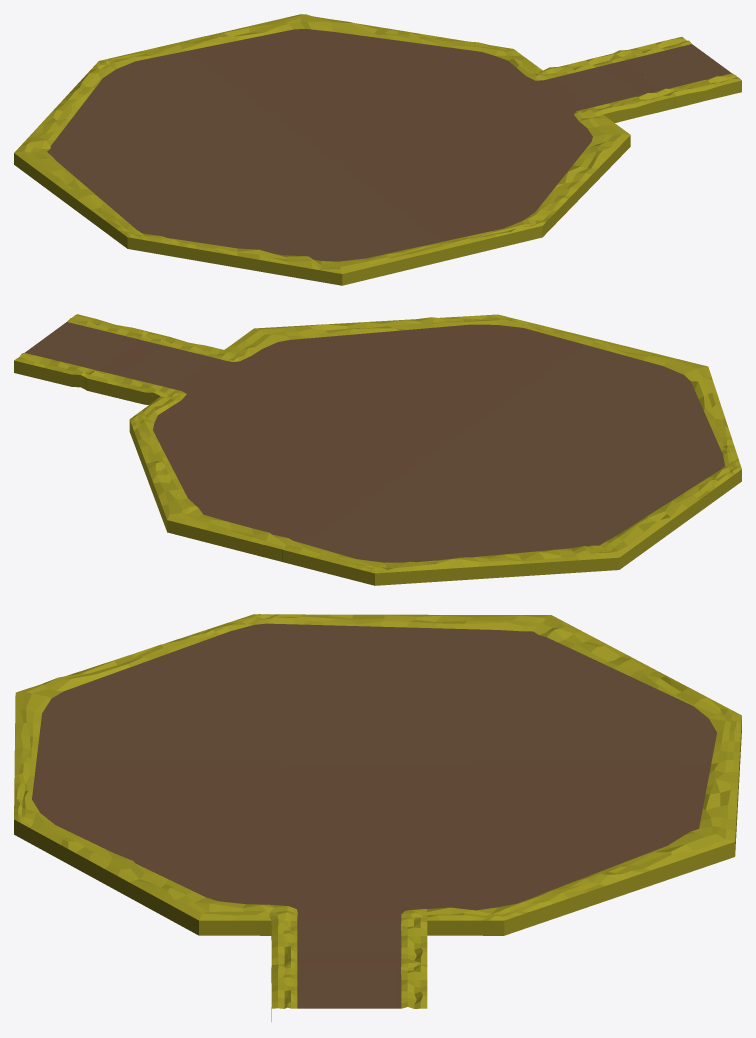
The model's file is todo mundo pro chico.fbx.
3 views of the same model, one above another, from view 1: azimuth 30°, elevation 25°; view 2: azimuth 150°, elevation 25°; view 3: azimuth 270°, elevation 25° (orthographic). The views are drawn at different scales.
Parts seen in each view (by area): view 1: Plano.003, Plano.002; view 2: Plano.003, Plano.002; view 3: Plano.003, Plano.002.
Part boxes in pixels (left/top/right/bottom): Plano.003: left=14, top=14, right=672, bottom=285; Plano.002: left=613, top=37, right=741, bottom=108; Plano.003: left=87, top=314, right=741, bottom=585; Plano.002: left=14, top=314, right=149, bottom=390; Plano.003: left=14, top=614, right=741, bottom=964; Plano.002: left=271, top=961, right=427, bottom=1021.
Bounding box in the file's own units: 3592 × 91.44 × 2802.
Materials: 2 (2 with a texture image).
